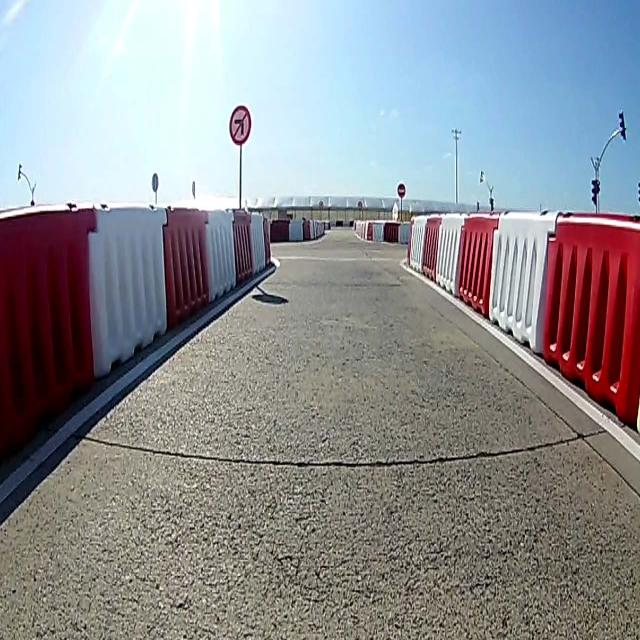girisyok: (398, 181, 404, 200)
soladonulmez: (230, 106, 252, 145)
